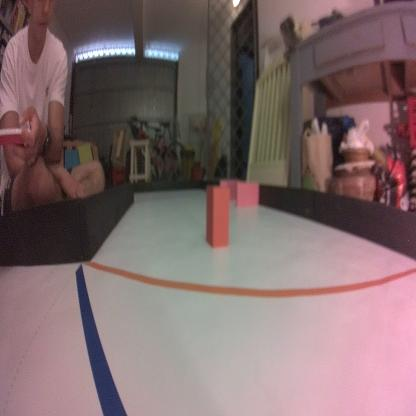magenta: (236, 179, 258, 207)
red: (204, 182, 230, 249)
